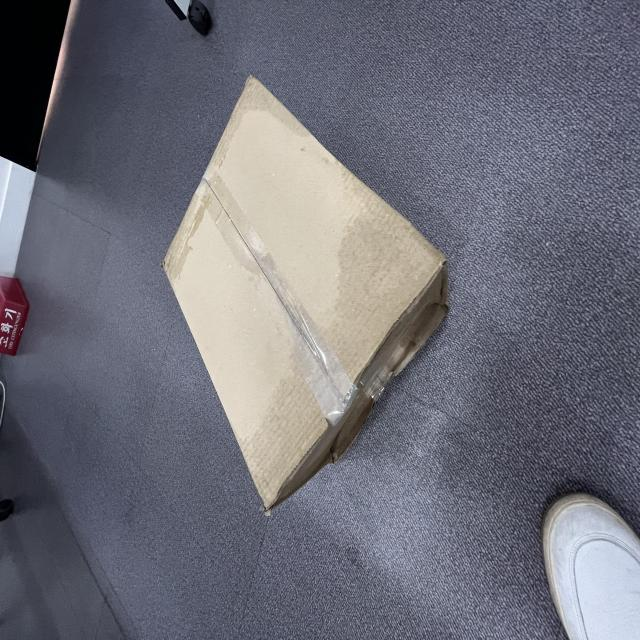wet: (191, 263, 318, 438), (313, 127, 399, 285)
